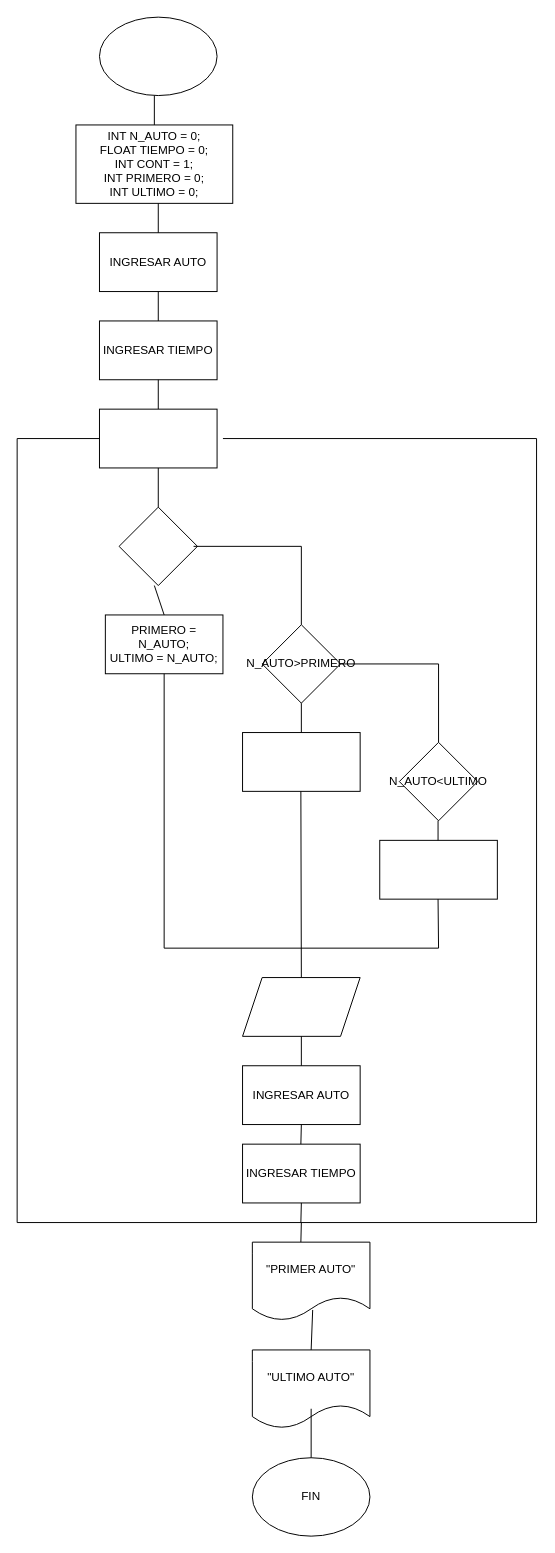
Some shapes in this 555 by 1553 pixel diagram are drawn without their labels. Each missing label, with the box of its shape:
CONT == 1: (118, 506, 197, 586)
CONT++;: (242, 977, 360, 1036)
INICIO: (98, 16, 217, 96)
N_AUTO != 0: (98, 408, 217, 468)
PRIMERO = N_AUTO;: (242, 732, 360, 791)
ULTIMO = N_AUTO;: (379, 839, 497, 899)
